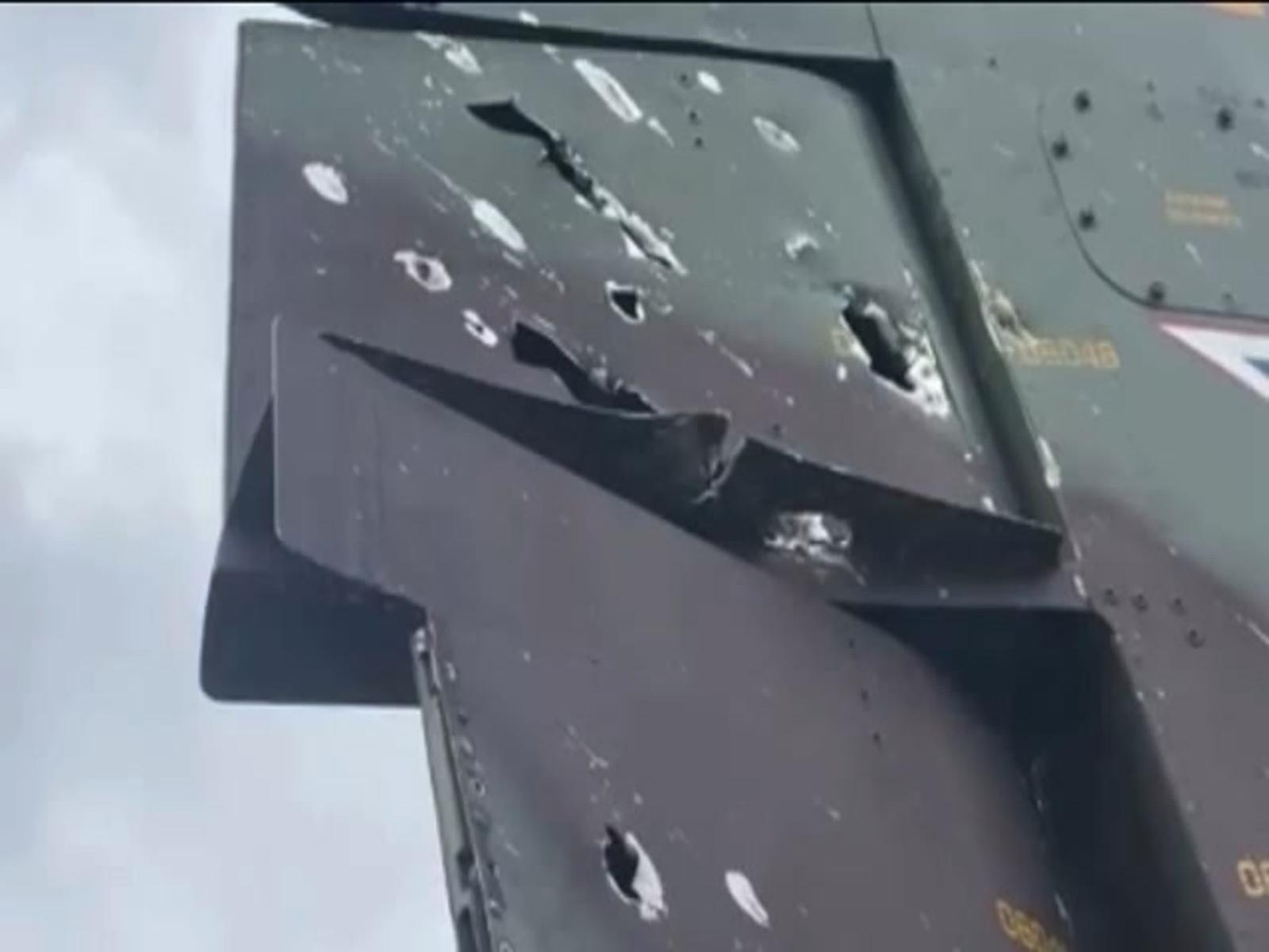Wing_damage: (201, 13, 1269, 952), (468, 101, 682, 270), (468, 100, 610, 210), (841, 283, 951, 416), (511, 322, 658, 414), (602, 826, 666, 920), (573, 58, 643, 123), (724, 870, 769, 928), (393, 249, 452, 292), (417, 35, 482, 74), (302, 161, 348, 205), (753, 116, 801, 153)
